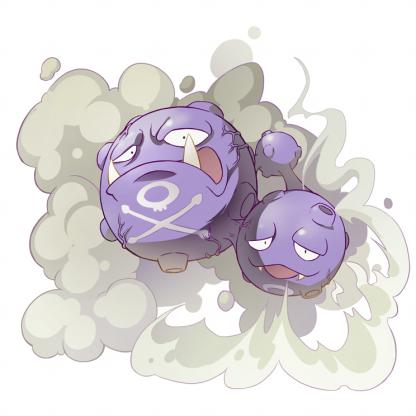Weezing: (17, 34, 408, 373)
